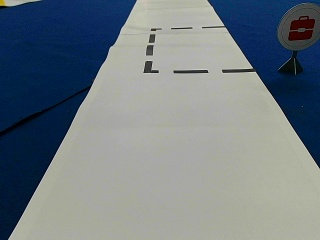company: (277, 3, 319, 49)
